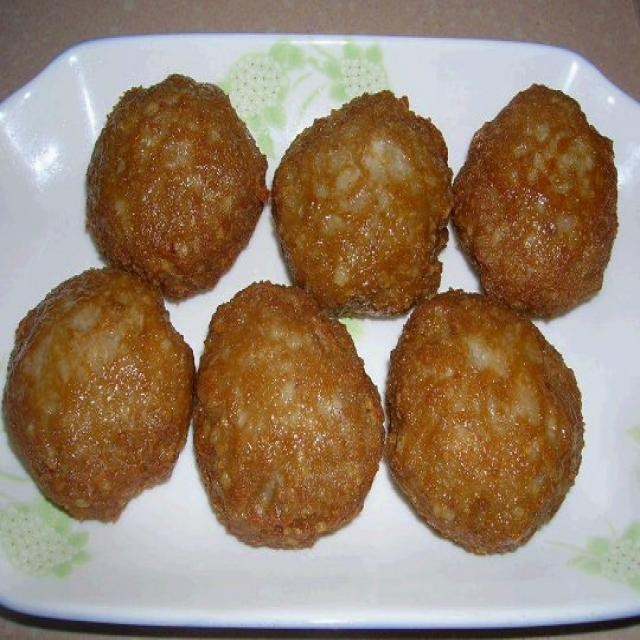Meatball: (378, 288, 594, 561), (0, 255, 199, 530), (195, 275, 388, 551), (72, 63, 272, 305), (446, 77, 629, 324), (266, 82, 449, 326)
